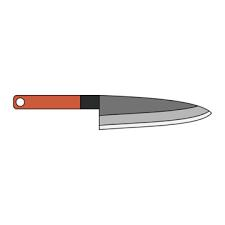Knife: (12, 94, 212, 130)
